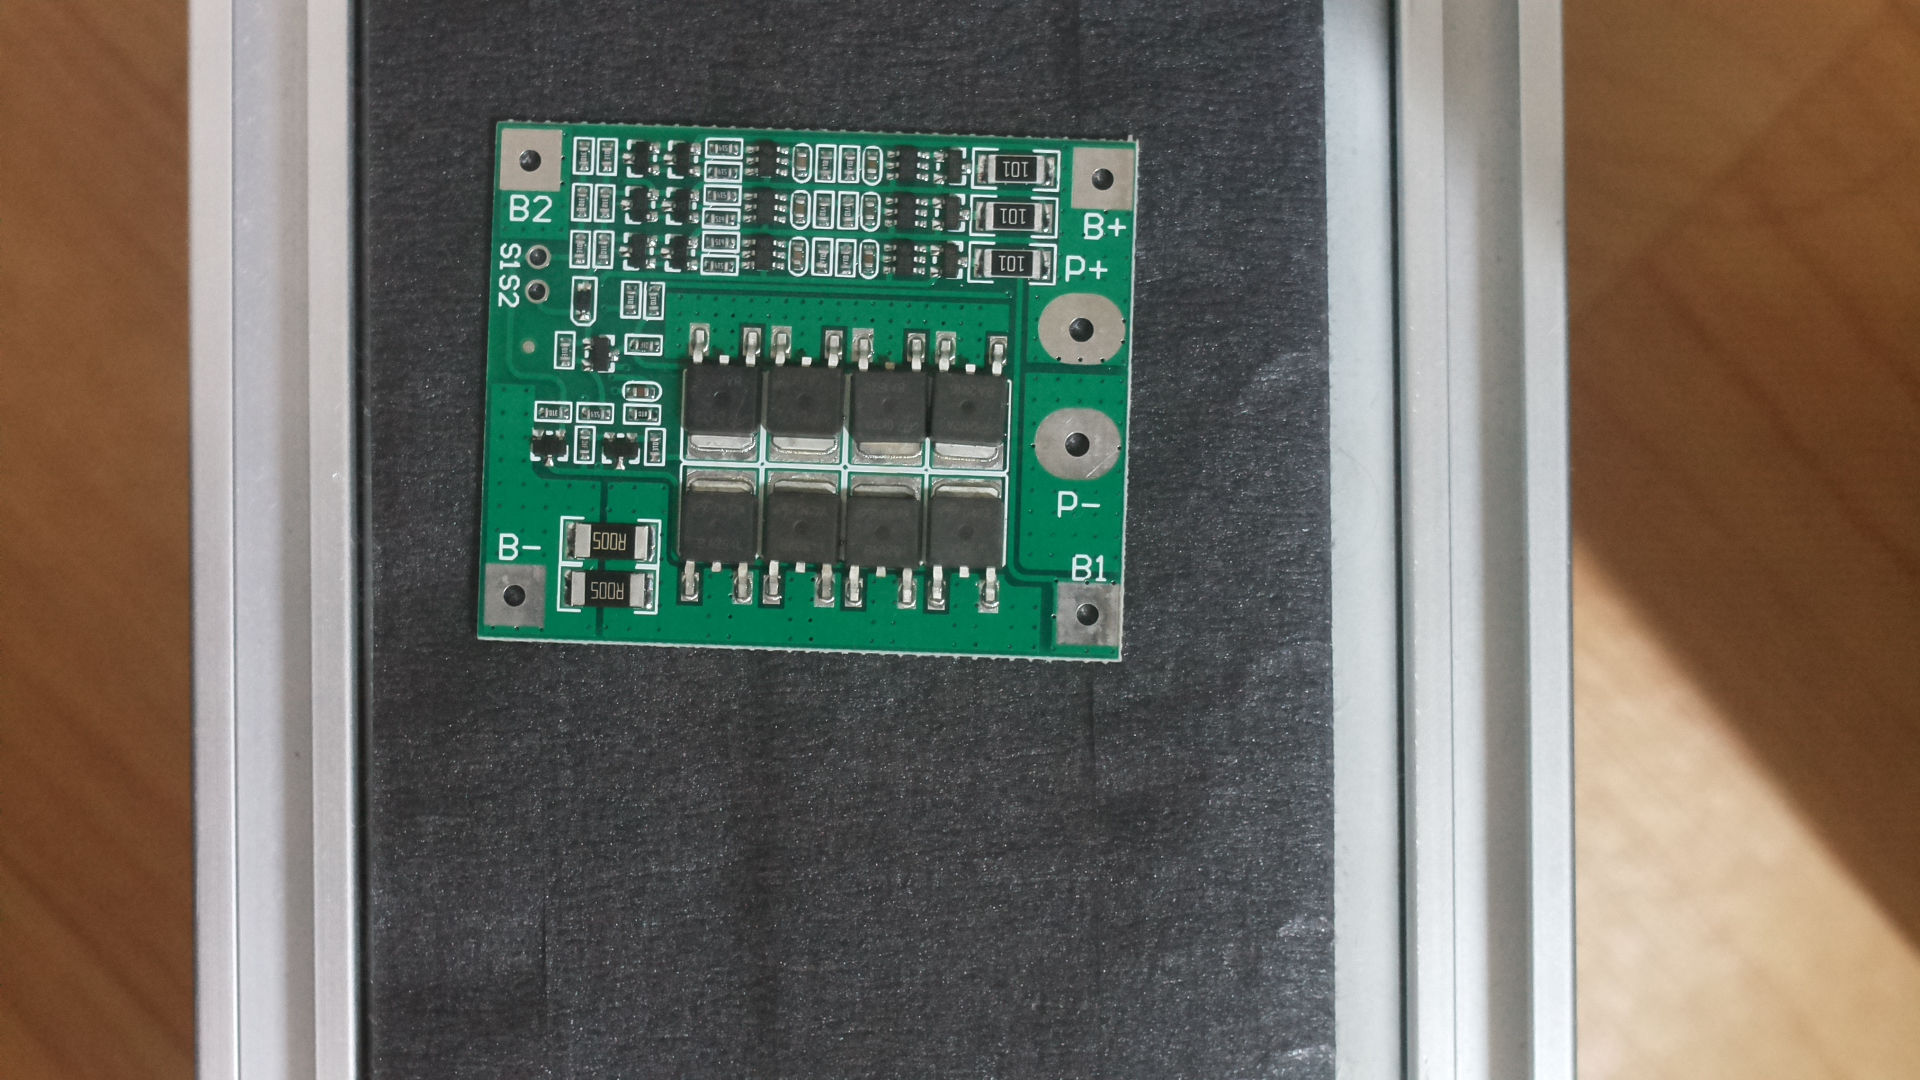C_Normal: (468, 109, 1138, 675)
